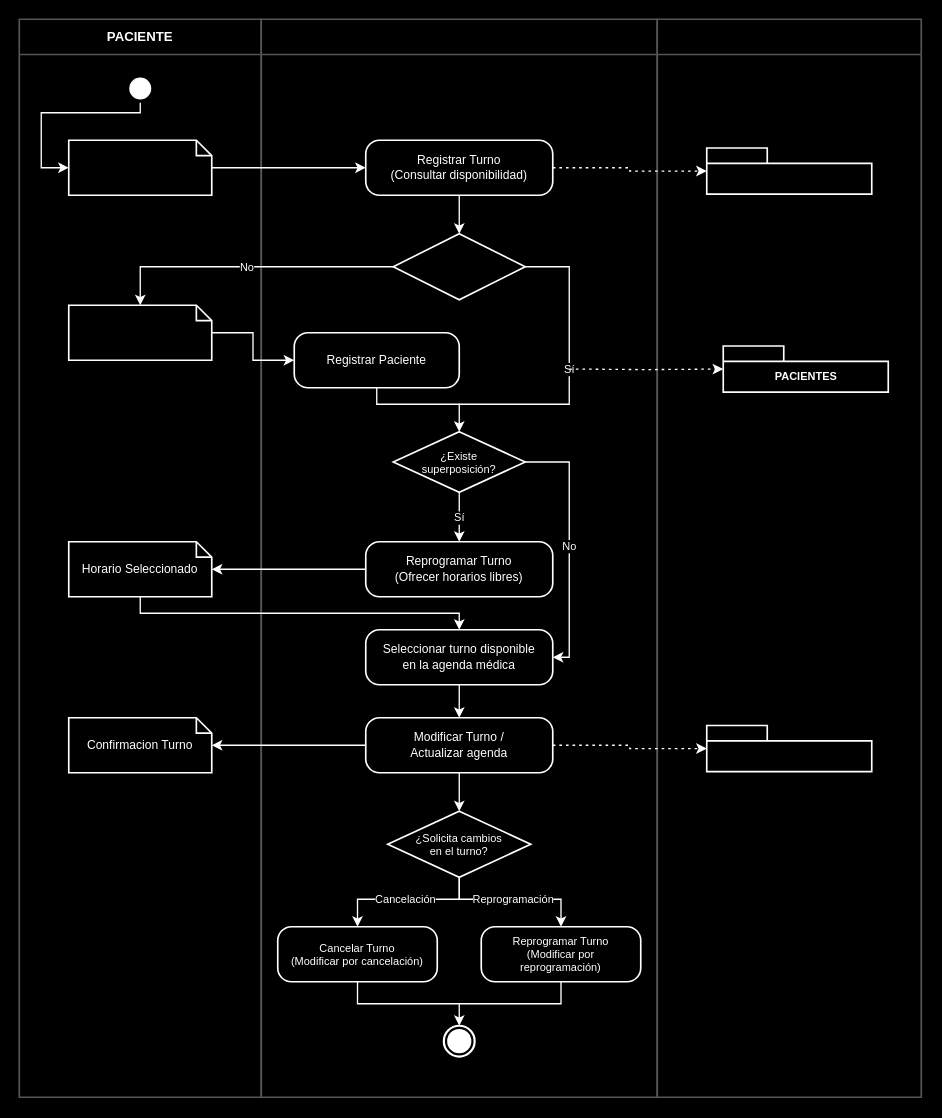
Image size: 942x1118. Some labels were removed from this diagram. Here are the shapes that lost their labels. From the top down, the box of each, then its label:
(67, 139, 212, 196): Datos Turno
(705, 147, 872, 194): AGENDA Y TURNOS
(392, 232, 526, 300): ¿Paciente existe en BD?
(67, 304, 212, 361): Datos Filiales
(260, 18, 658, 1098): NUTRICIONISTA
(656, 18, 922, 1098): DATA STORE
(705, 724, 872, 772): BLOQUES HORARIOS
